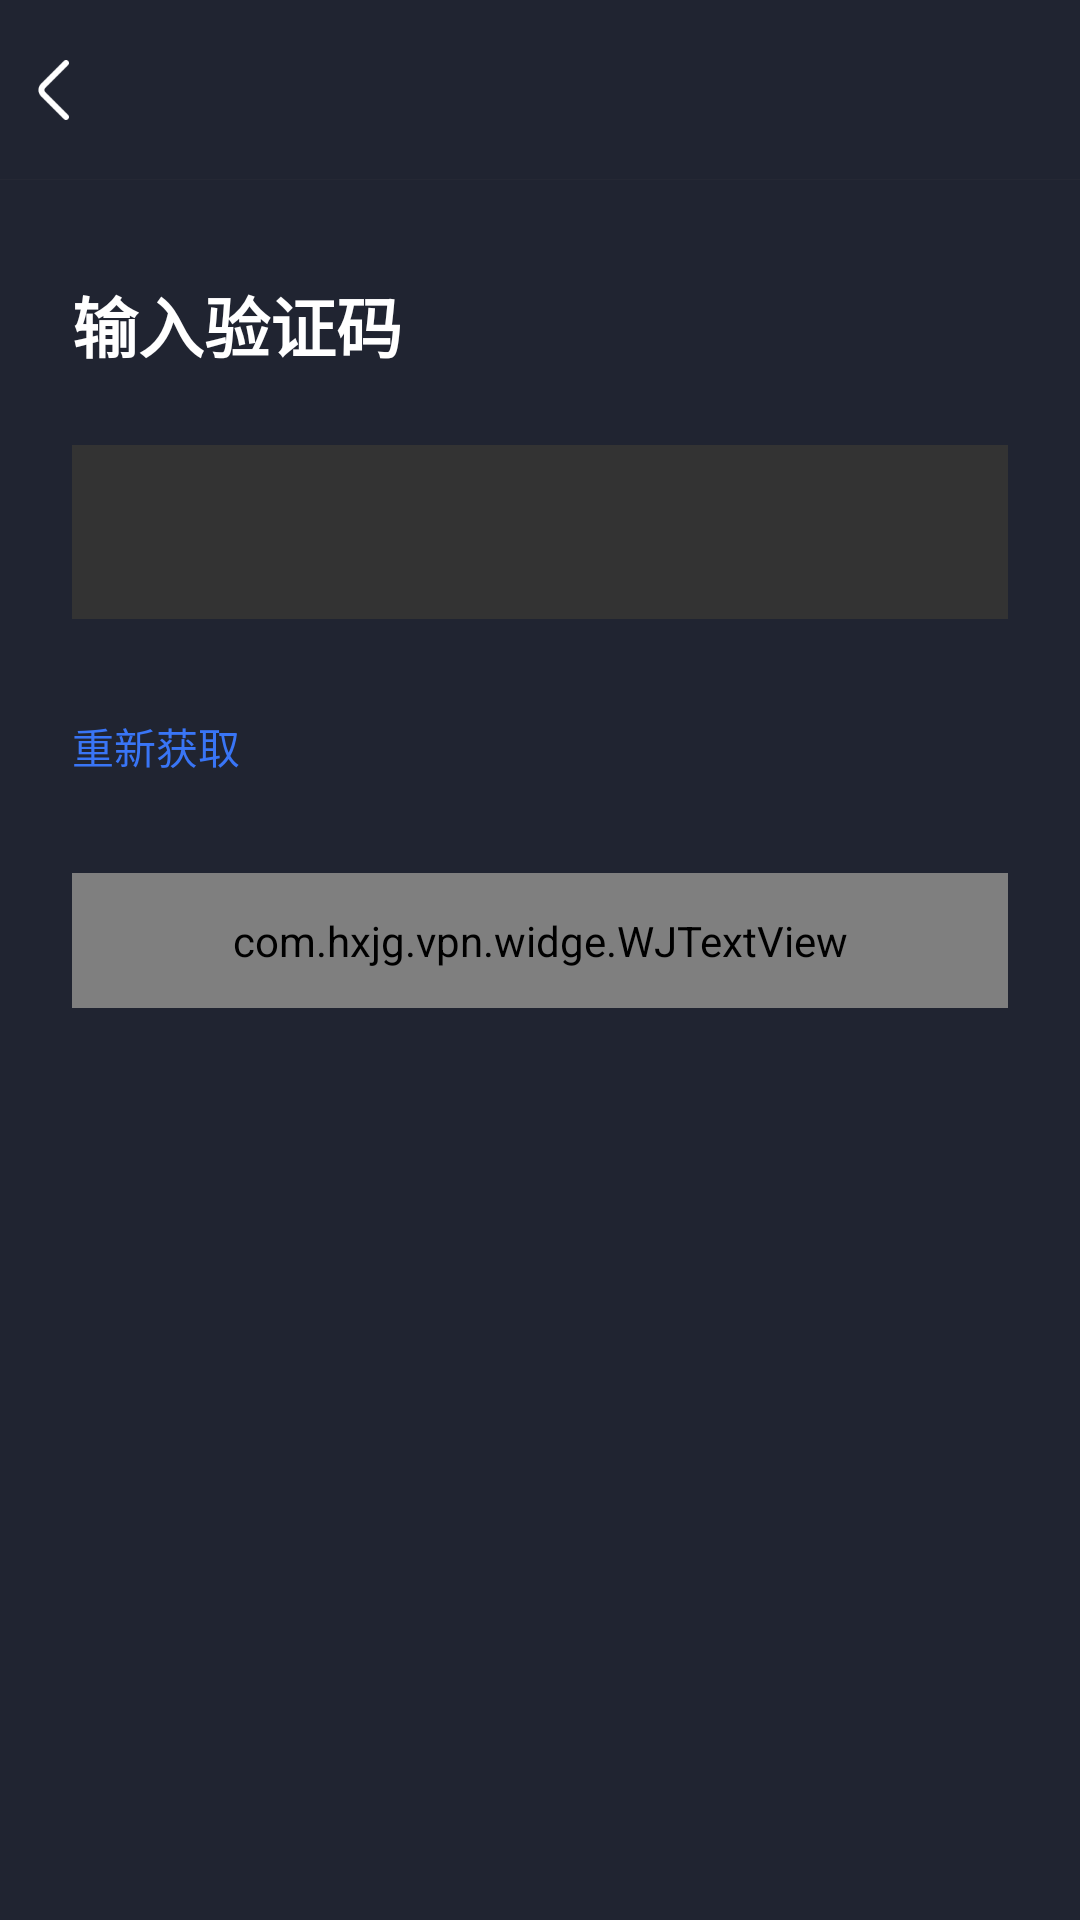

Screen size 1080w x 1920h. Icon name, then its box in pixels as (x1, y1, x2, y2):
back row: (38, 60, 69, 120)
